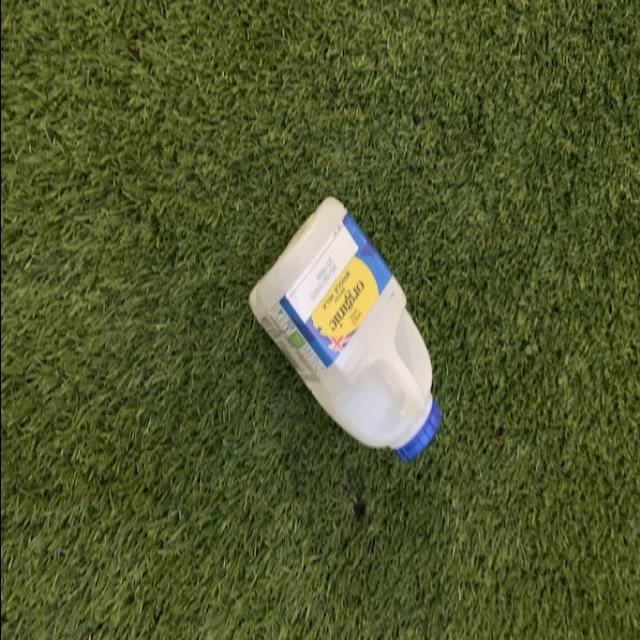HDPEM: (245, 198, 442, 462)
